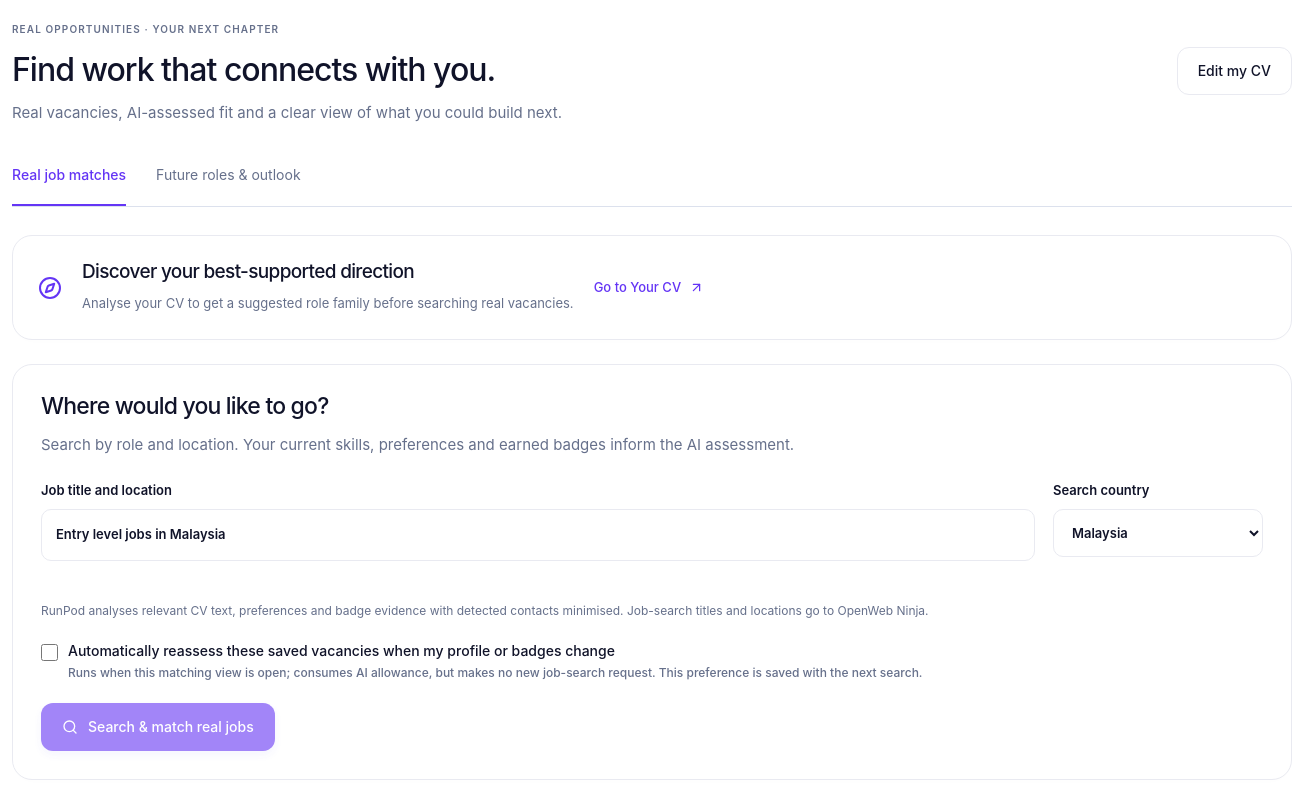
Scenario: generates an explicit 5-year development scenario
Step 1. Click the tab "Future roles & outlook" → click(228, 182), box [156, 158, 301, 206]
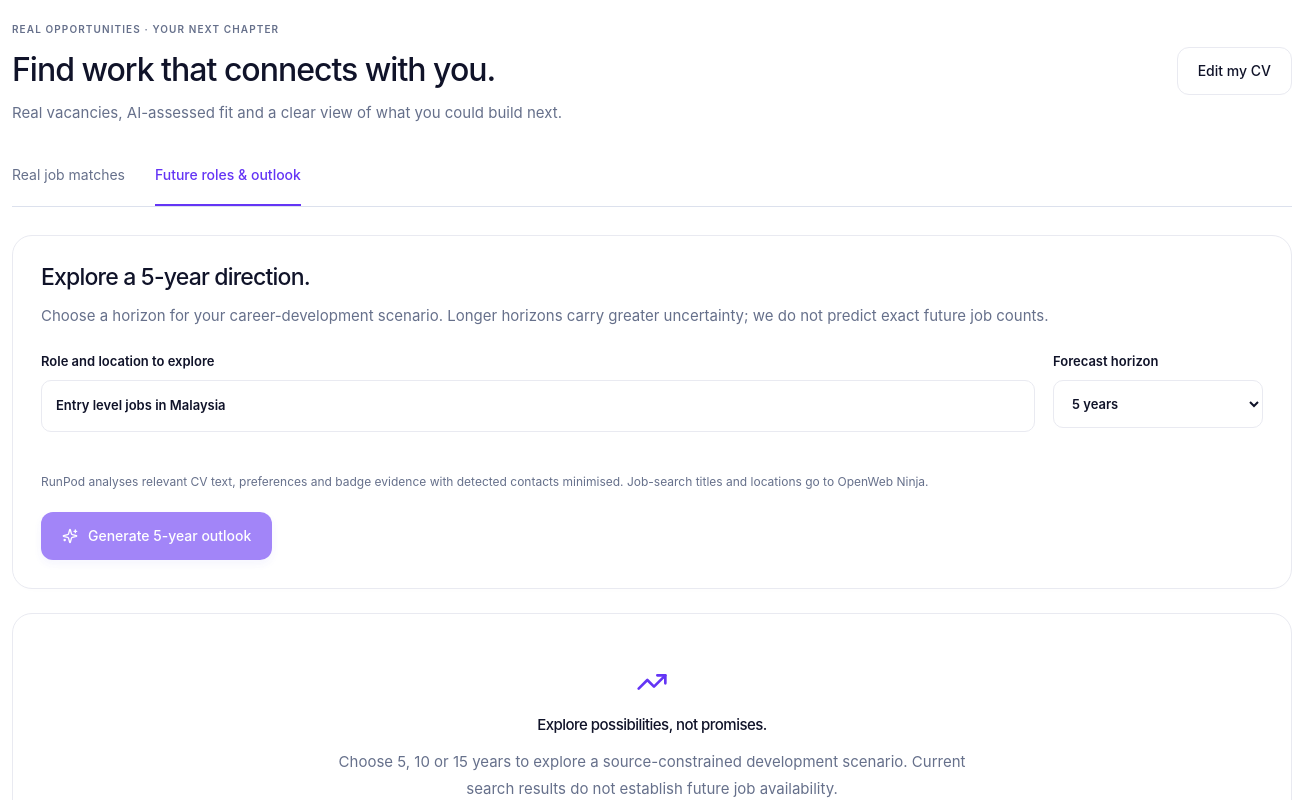
Step 2. Select "5 years" in the dropdown labelled "Forecast horizon" → (1158, 404), box [1053, 380, 1263, 428]
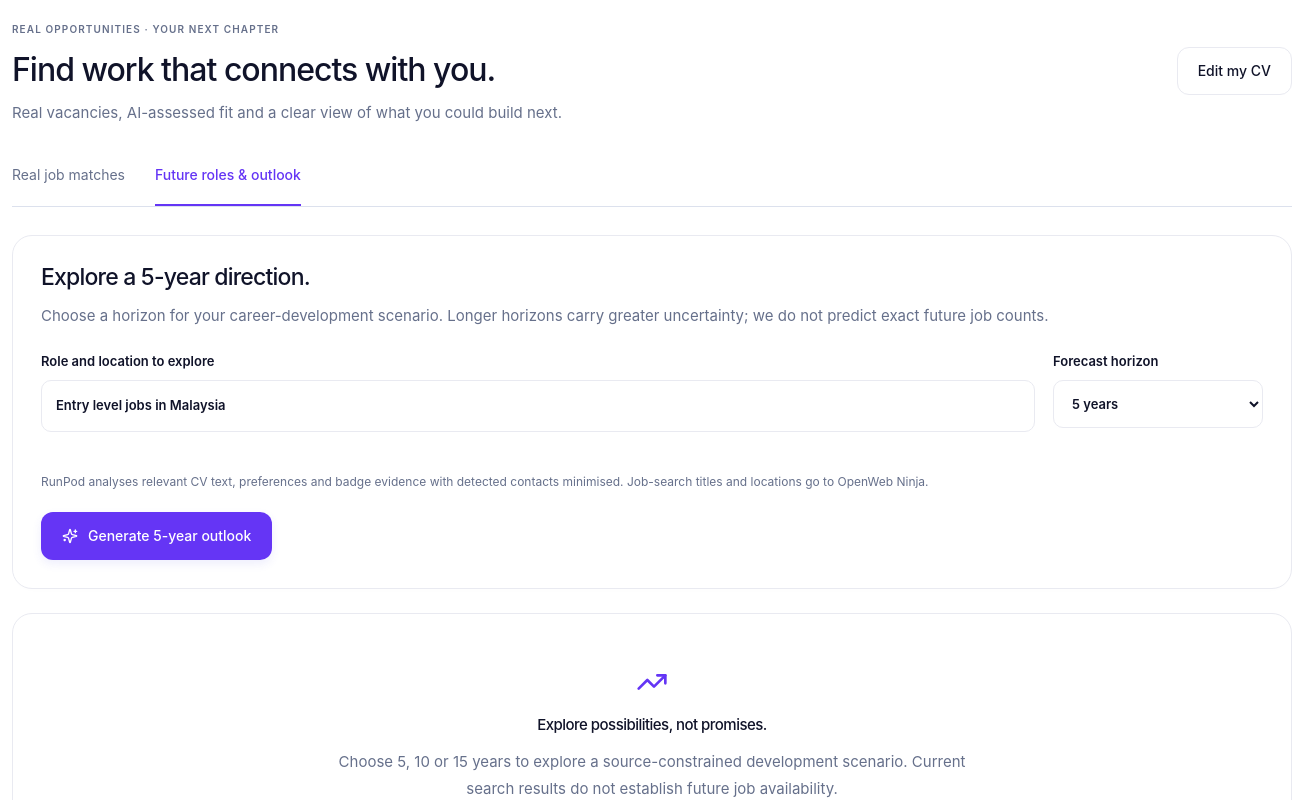
Step 3. Click the button "Generate 5-year outlook" → click(157, 536), box [41, 512, 272, 560]
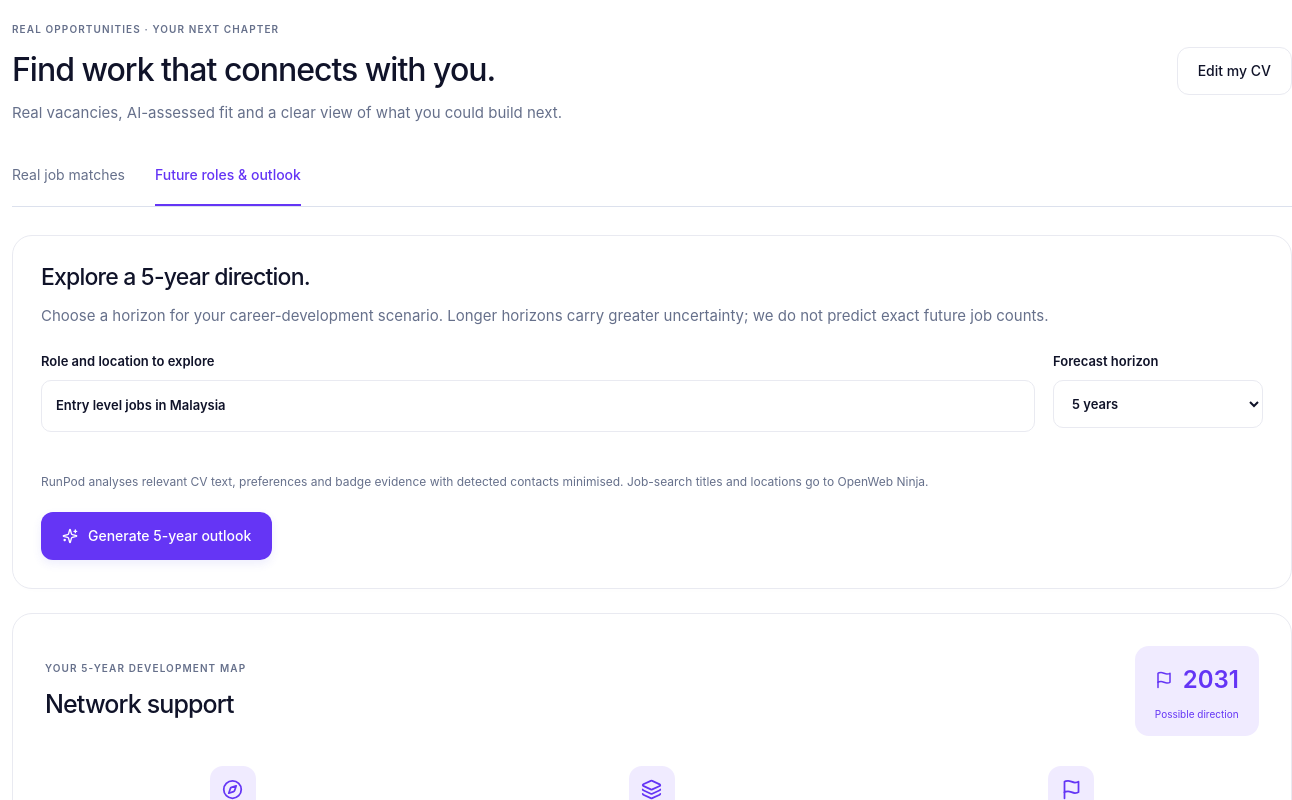
Expected: the text "2031" is shown, [1183, 665, 1239, 694]
